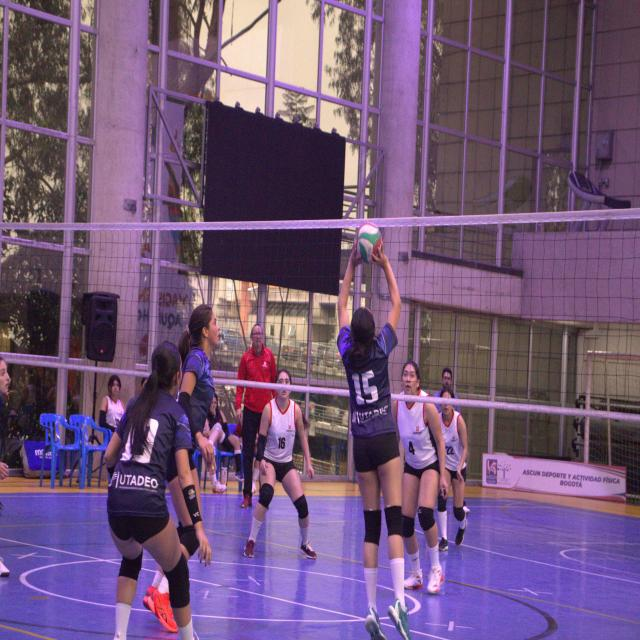volleyball: (354, 222, 382, 264)
